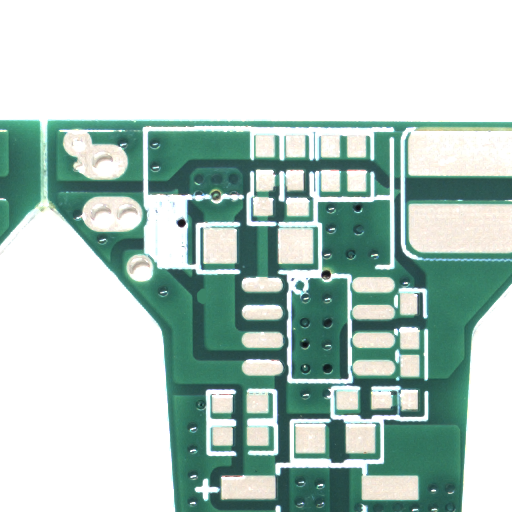Spur: (200, 295, 211, 309)
